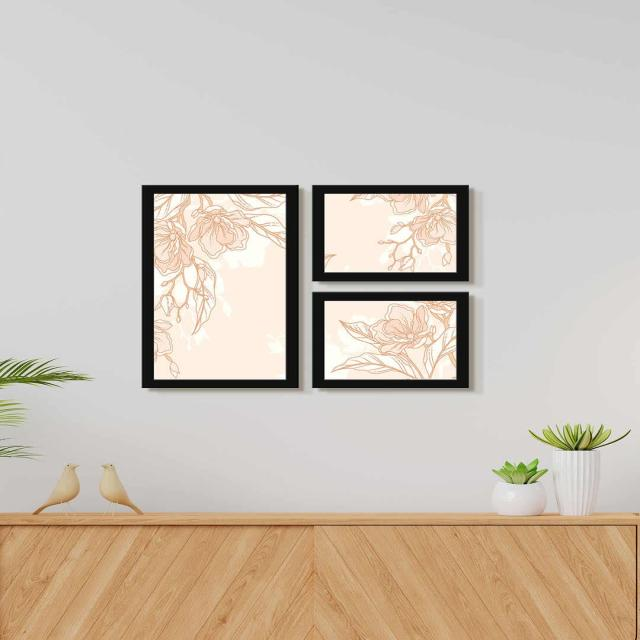painting: (143, 182, 299, 387), (312, 292, 469, 388), (312, 184, 469, 279)
